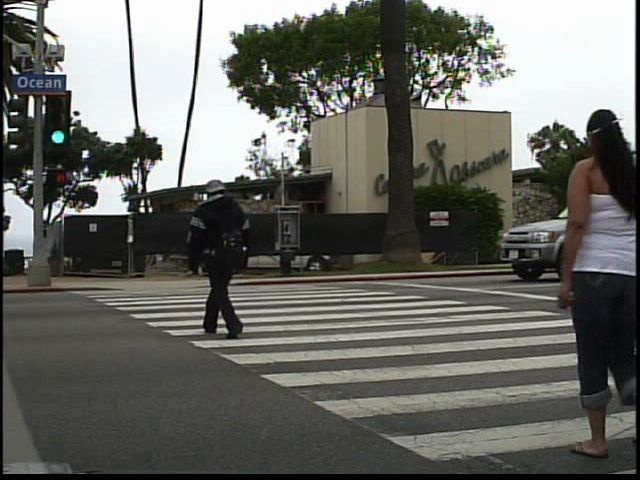person: (541, 103, 633, 469), (180, 166, 270, 349)
